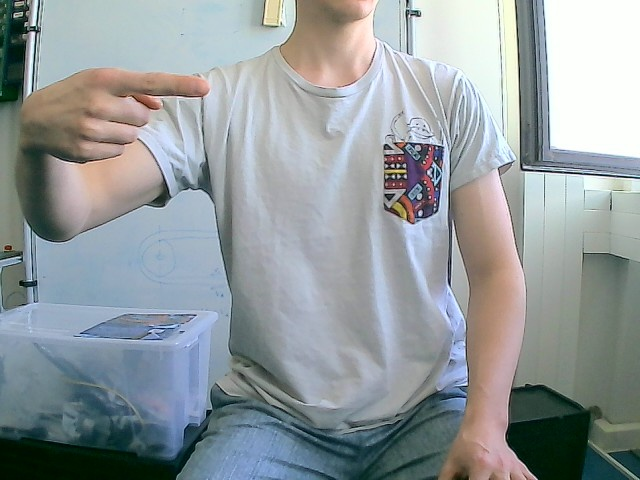left: (17, 66, 211, 165)
